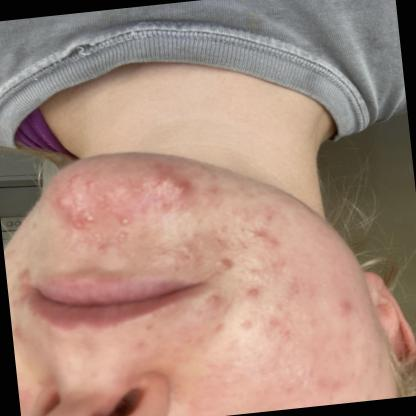Acne: (168, 178, 191, 198), (211, 254, 235, 272), (261, 234, 286, 250), (79, 210, 98, 227), (334, 300, 353, 317), (246, 285, 263, 302), (111, 228, 129, 242), (118, 213, 134, 227)
